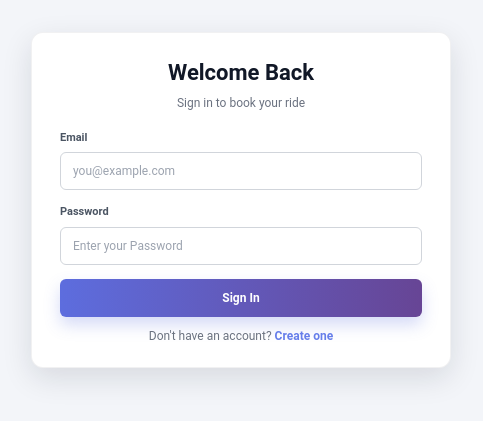
LoginPage › shows email format validation when email does not contain @ (custom validation)
In the field labelled "Email": (241, 171) left=60, top=152, right=422, bottom=190, type "invalid-email"
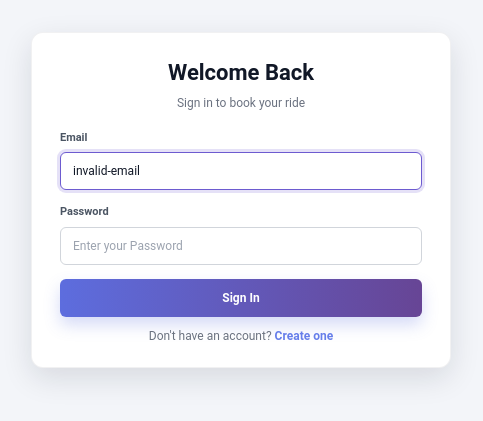
In the password field labelled "Password": (241, 246) left=60, top=227, right=422, bottom=265, type "password123"
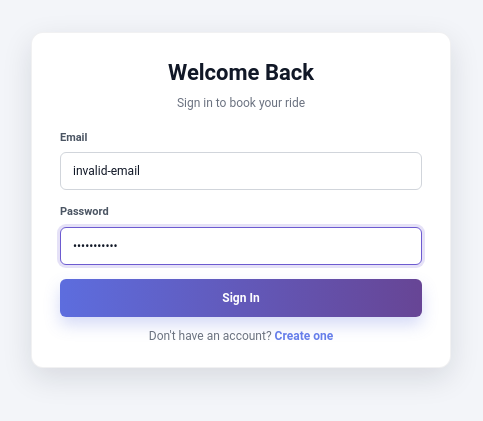
Click the button "Sign In": (241, 298) left=60, top=279, right=422, bottom=317
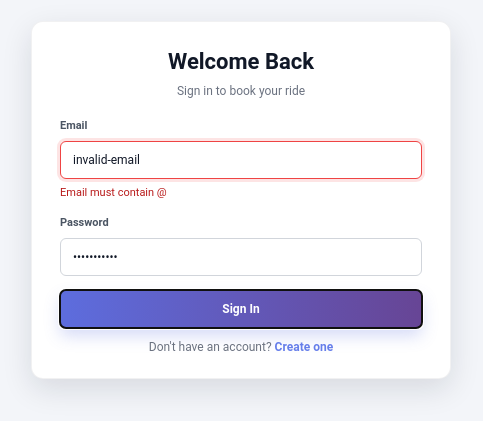
Now the text "Email must contain @" is shown, box left=60, top=186, right=167, bottom=199
